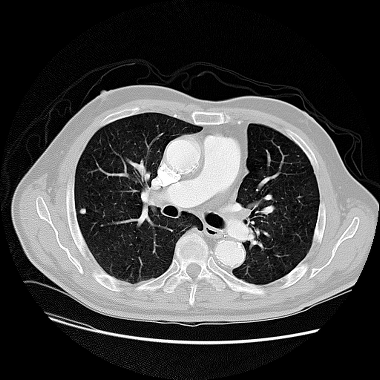nodule: (79, 207, 87, 215)
